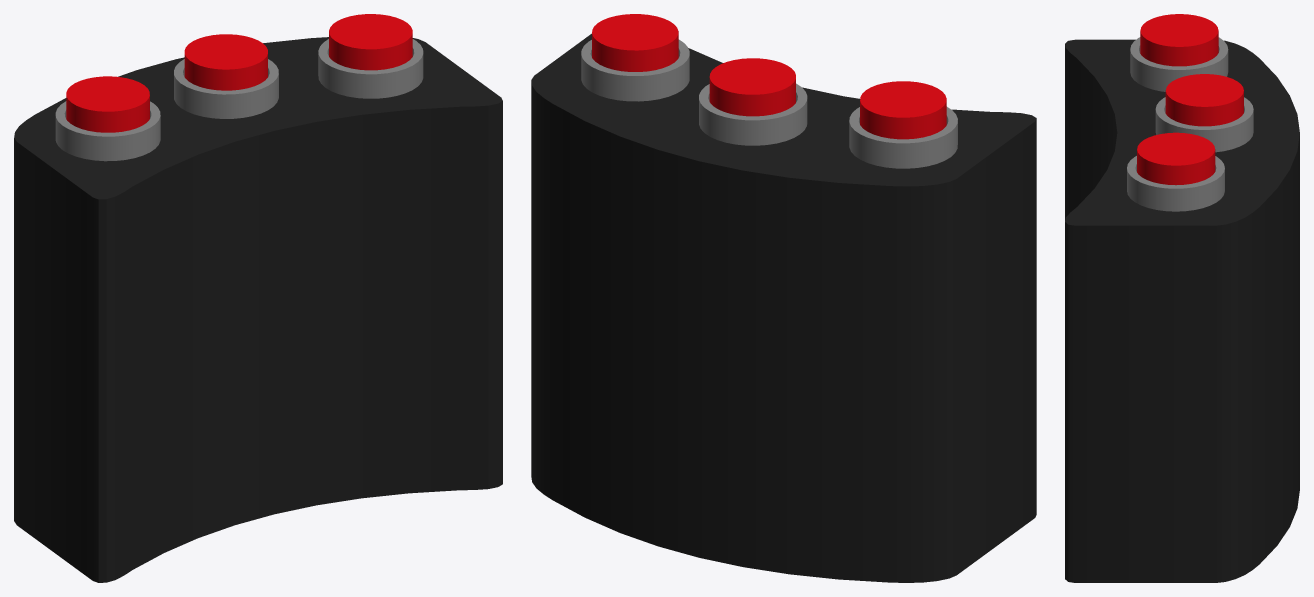
File: buttons.fbx
The picture shows the model from 3 angles, left to right: view 1: azimuth 30°, elevation 25°; view 2: azimuth 150°, elevation 25°; view 3: azimuth 270°, elevation 25°; orthographic projection. The views are drawn at different scales.
Visible parts, largest first — view 1: Pedestal, Push_Middle, Push_Left, Push_Right, Border_Left, Border_Right, Border_Middle; view 2: Pedestal, Push_Middle, Push_Left, Push_Right, Border_Right, Border_Left, Border_Middle; view 3: Pedestal, Push_Middle, Push_Left, Push_Right, Border_Right, Border_Left, Border_Middle.
Part boxes in pixels (x1,y1,x2,y2): Pedestal: (14,37,502,582); Push_Middle: (184,34,267,90); Push_Left: (66,76,149,132); Push_Right: (329,14,412,70); Border_Left: (55,101,160,161); Border_Right: (318,39,423,98); Border_Middle: (174,59,278,118); Pedestal: (531,33,1036,582); Push_Middle: (709,58,795,116); Push_Left: (860,81,946,139); Push_Right: (592,14,678,71); Border_Right: (581,39,689,101); Border_Left: (849,106,957,168); Border_Middle: (699,83,807,145); Pedestal: (1065,39,1299,582); Push_Middle: (1165,74,1243,126); Push_Left: (1140,14,1218,66); Push_Right: (1137,132,1215,185); Border_Right: (1127,156,1224,211); Border_Left: (1130,37,1228,91); Border_Middle: (1155,97,1253,152).
Bounding box in the file's own units: 482 × 482 × 257.
